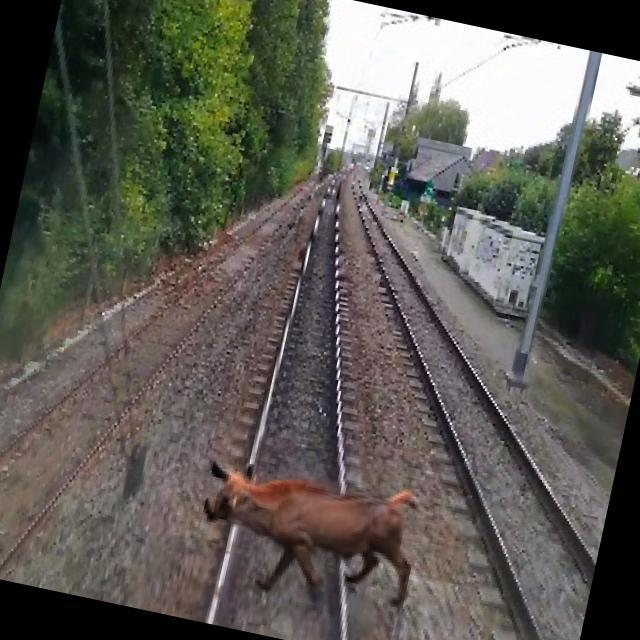danger: (192, 456, 432, 616)
rail: (345, 170, 602, 640), (161, 158, 382, 640)
